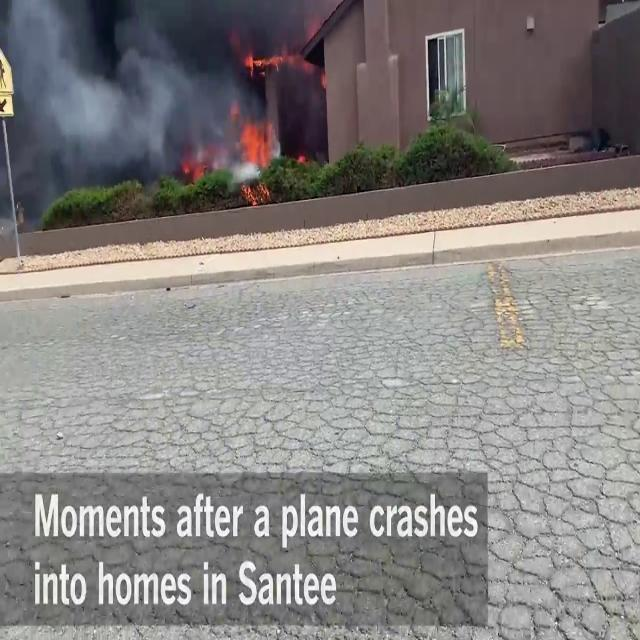Smoke: (1, 1, 330, 202)
